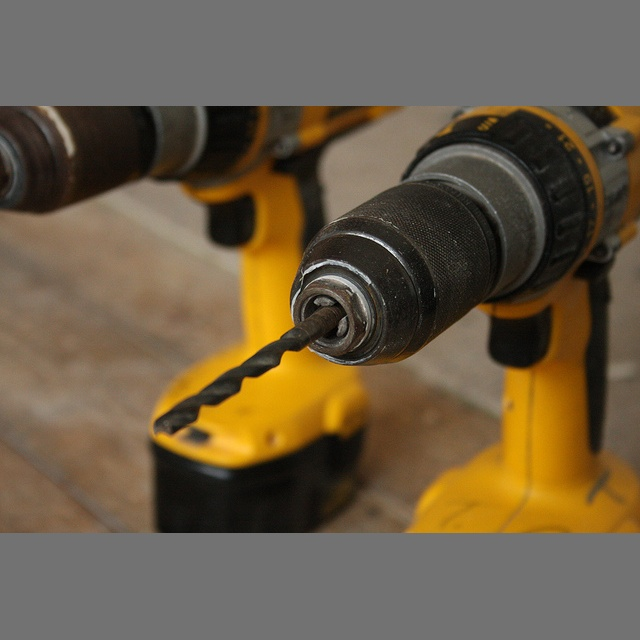drill: (155, 114, 637, 526), (8, 112, 410, 519)
